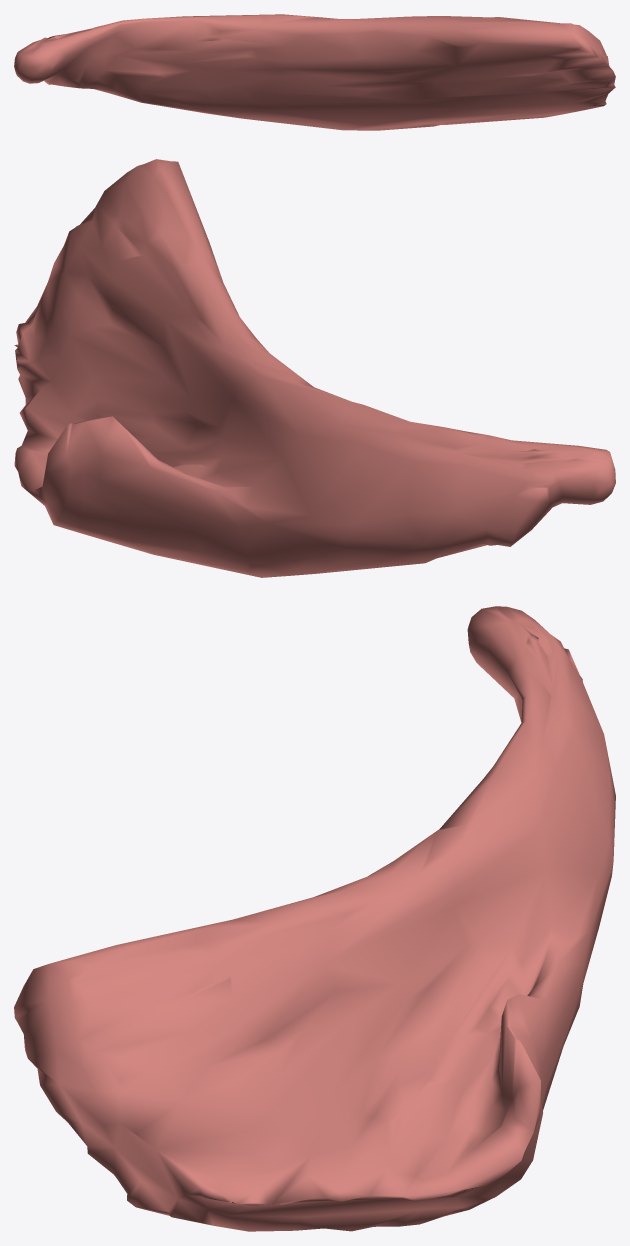
3 views of the same model, one above another, from view 1: azimuth 30°, elevation 25°; view 2: azimuth 150°, elevation 25°; view 3: azimuth 270°, elevation 25° (orthographic). The views are drawn at different scales.
Visible parts, largest first — view 1: ZA_b7371c94e2864d78; view 2: ZA_b7371c94e2864d78; view 3: ZA_b7371c94e2864d78.
Boxes of the visible parts, left/top/right/bottom form: ZA_b7371c94e2864d78: left=14, top=14, right=615, bottom=130; ZA_b7371c94e2864d78: left=14, top=159, right=615, bottom=577; ZA_b7371c94e2864d78: left=14, top=606, right=615, bottom=1231.
Size of the model in its own units: 0.0995 by 0.0309 by 0.0582.
